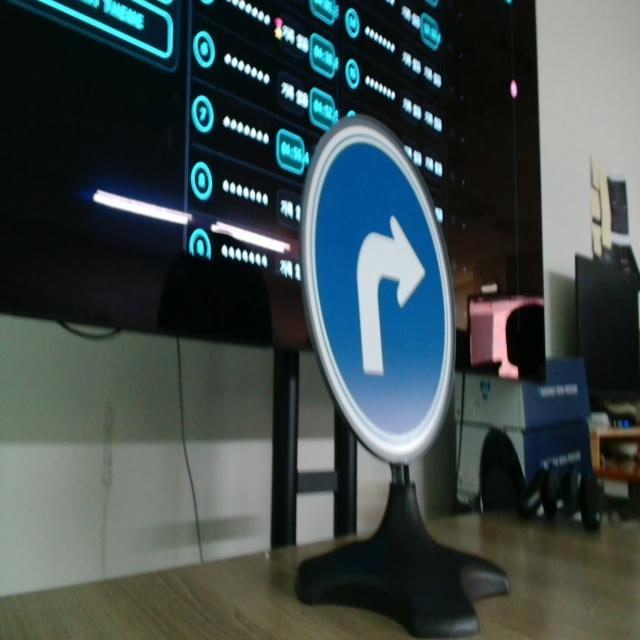right_dierection: (302, 108, 458, 462)
